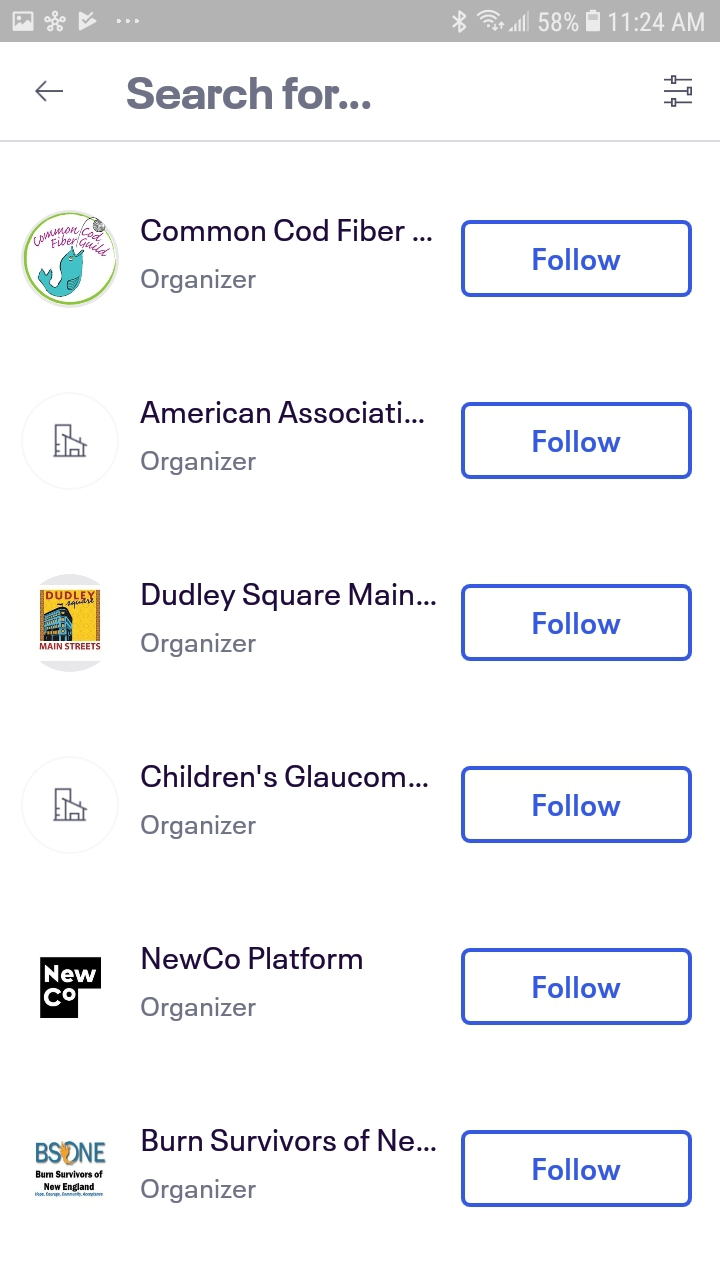Icon: (663, 76, 693, 109), (35, 81, 64, 103)
Image: (22, 210, 120, 309), (22, 393, 120, 490), (23, 758, 120, 854), (40, 573, 102, 673), (36, 1141, 107, 1197), (40, 957, 102, 1019)
Text: (142, 582, 436, 612), (127, 78, 371, 111), (142, 1128, 437, 1152), (141, 219, 432, 243), (141, 764, 428, 788), (140, 401, 424, 425), (142, 946, 363, 970), (141, 1178, 257, 1204), (141, 996, 257, 1022), (141, 814, 257, 840), (141, 450, 257, 476), (141, 268, 257, 294), (142, 633, 257, 658)
TextButton: (461, 1130, 693, 1208), (461, 948, 693, 1026), (461, 766, 693, 844), (461, 584, 693, 662), (461, 402, 693, 480), (461, 220, 693, 298)
UpperTaskBar: (1, 1, 720, 43)
